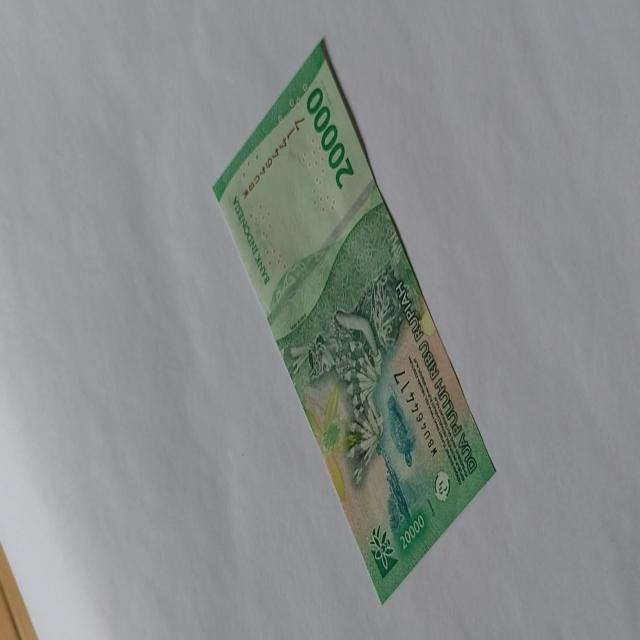dua puluh ribu rupiah: (211, 36, 497, 604)
